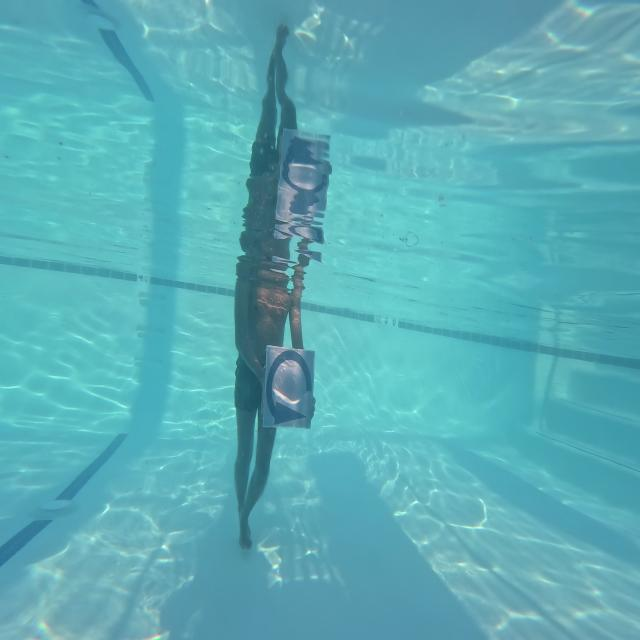blue_side: (263, 344, 316, 429)
